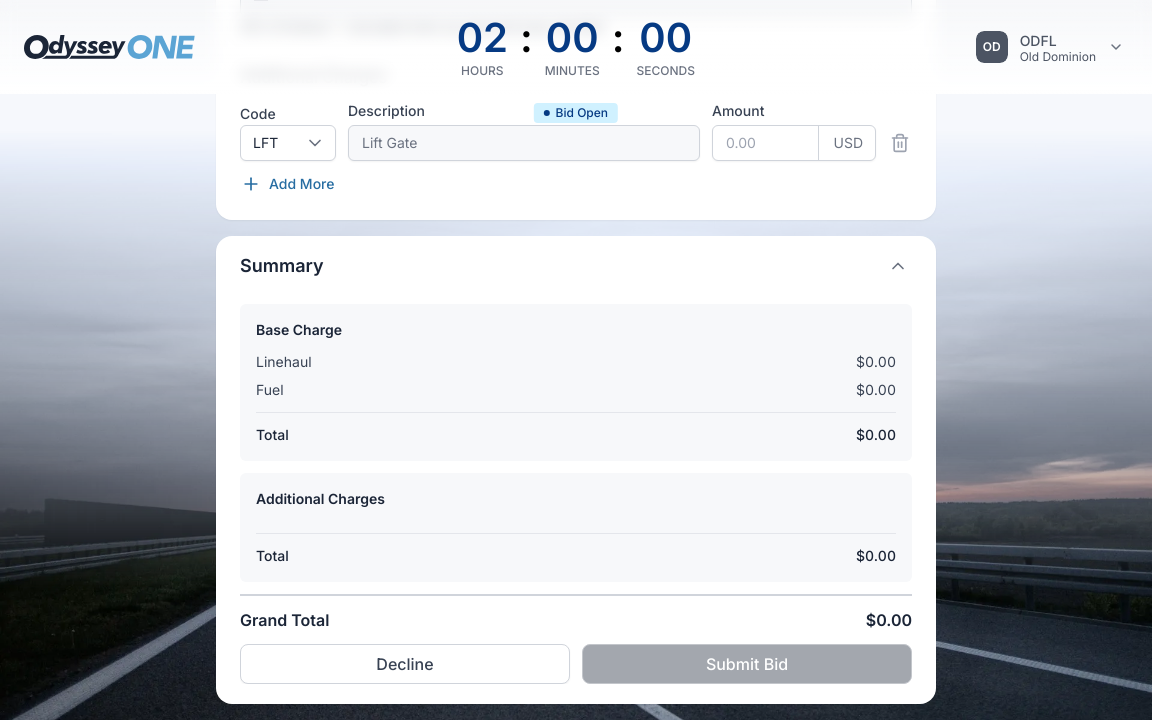
CarrierBid — open quote › Confirm Decline in the dialog actually declines the quote for that scac, then disables Decline ("Declined") and relabels the primary action "Bid Now"
(page scrolled)
Click the button "Decline" at (405,664), box [240, 644, 570, 684]
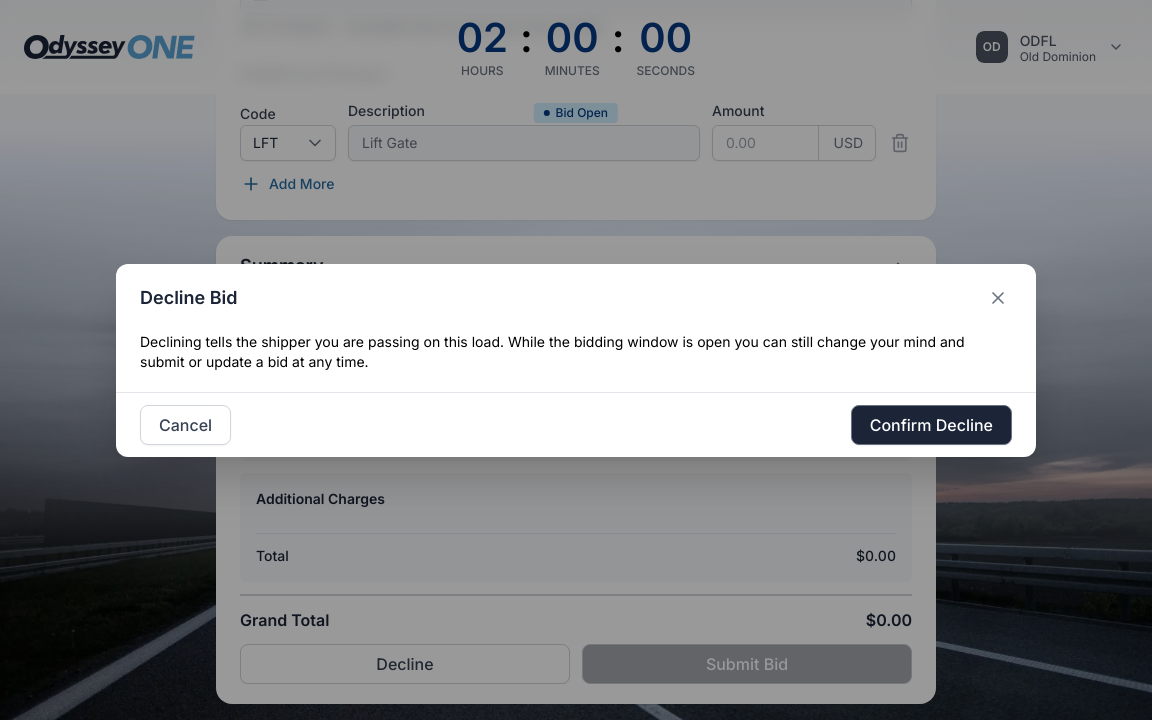
Click the button "Confirm Decline" at (931,424), box [851, 404, 1012, 444]
(page scrolled)
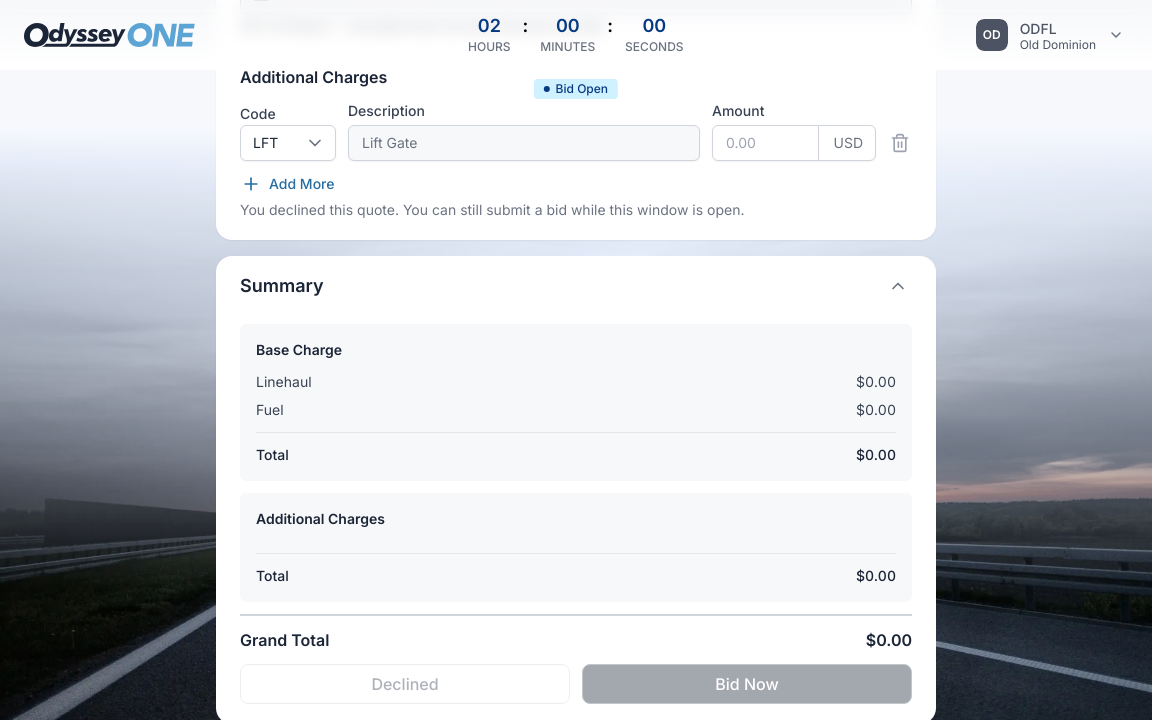
expect the text "Decline Bid" is gone: met
expect the button "Declined" is disabled: met, box [240, 664, 570, 704]
expect the button "Bid Now" is shown: met, box [582, 664, 912, 704]
